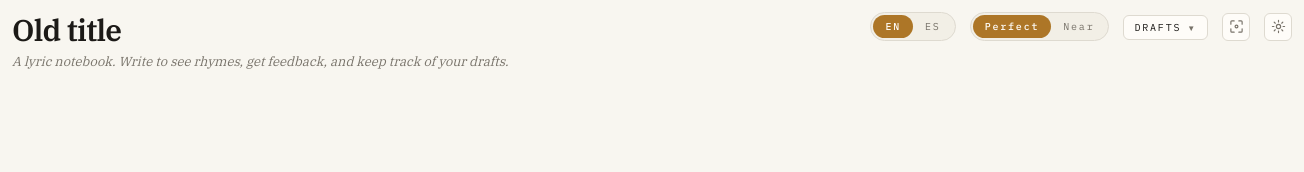
NotebookHeader title › commits an edited title on Enter
Click the button with aria-label "edit draft title". click: (67, 30)
box: [12,12,508,48]
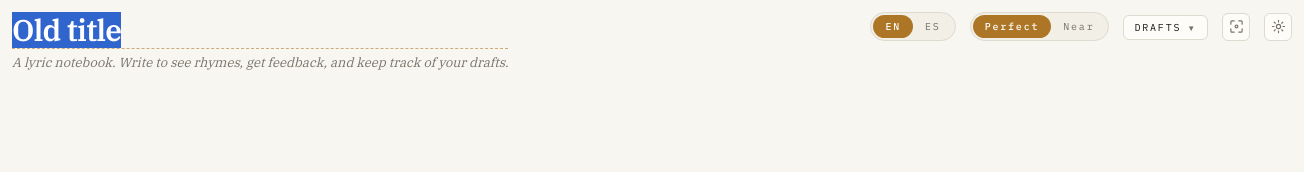
Replace the text in the field named "edit draft title" with "New title". click: (260, 30)
box: [12,12,508,49]
Then press Enter
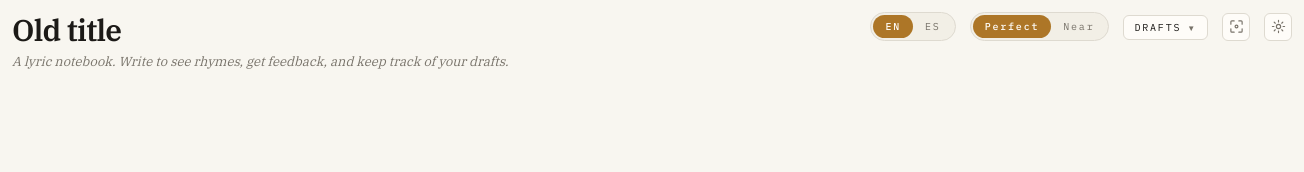
Check: the button with aria-label "edit draft title" is shown, box [12,12,508,48]
